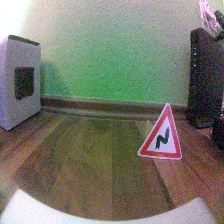vorsicht: (134, 102, 186, 161)
